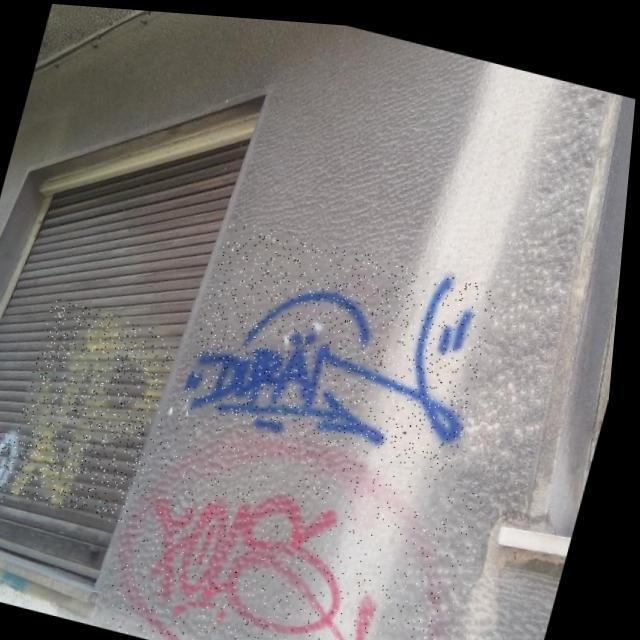-: (109, 403, 496, 640), (182, 214, 508, 472), (8, 294, 186, 524), (0, 419, 29, 502)
